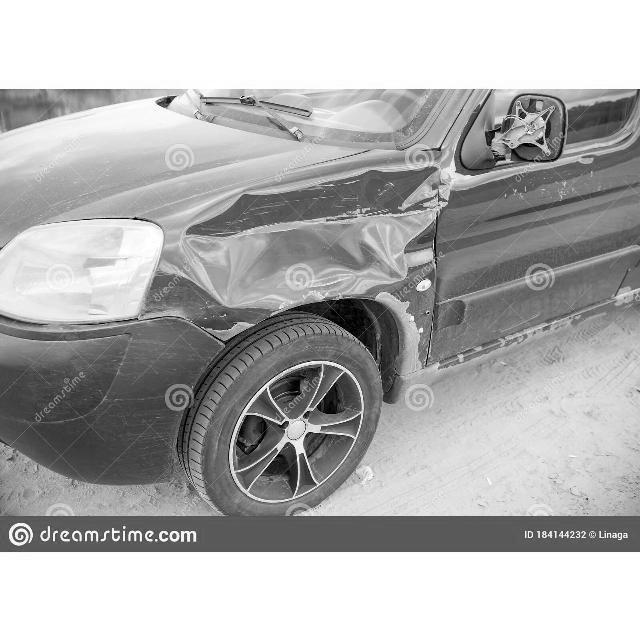Runningboard-Damage: (439, 331, 546, 374), (543, 289, 640, 335)
Sidemirror-Damage: (480, 89, 582, 174)
fender-dent: (168, 166, 433, 377)
